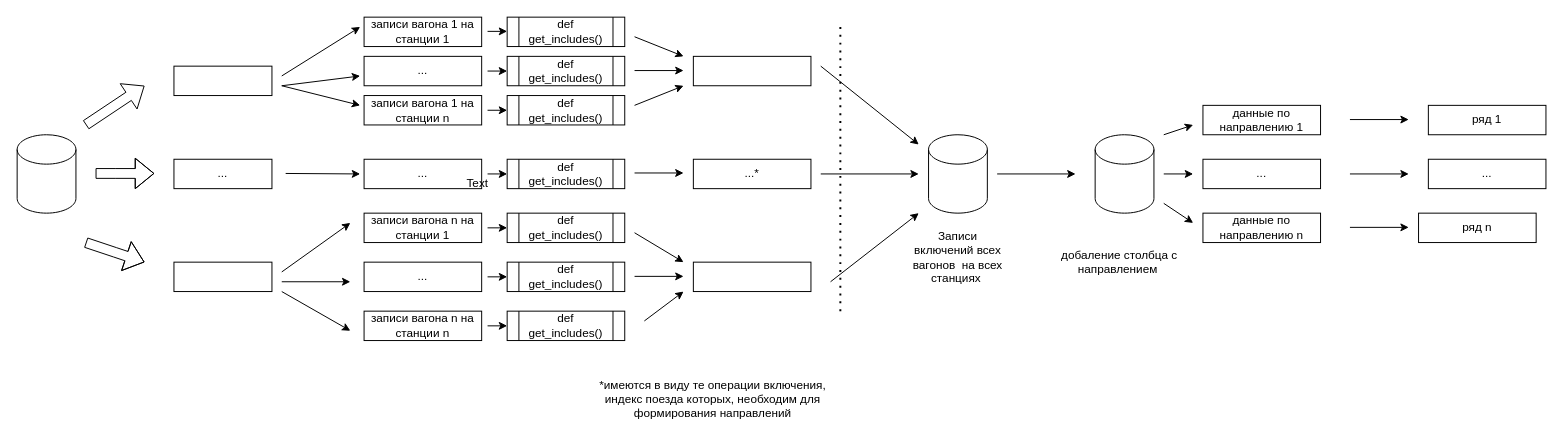
Some shapes in this 1563 by 437 pixel diagram are drawn without their labels. The shapes that lost their labels are listed below. From the top down, each one's centre as x and y in pixels, then its label:
At (222,80): "записи вагона 1".
At (751,70): "все записи включений вагона 1*".
At (46,173): "data".
At (222,276): "записи вагона n".
At (751,276): "все записи включений вагона n*".
